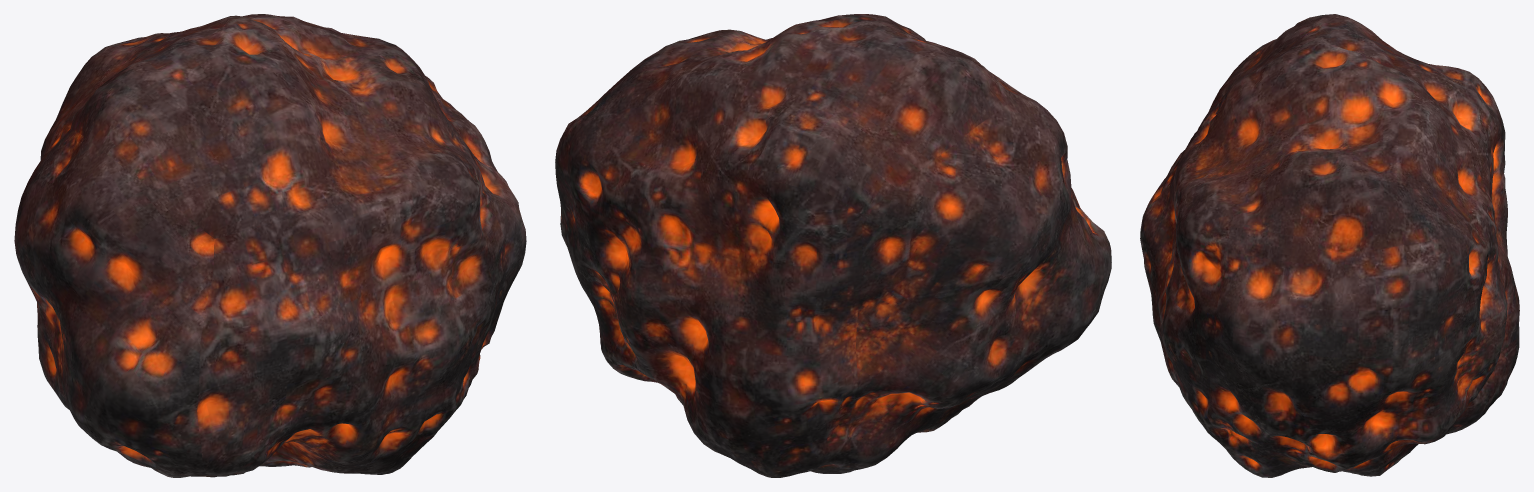
File: meteoro.glb
The picture shows the model from 3 angles, left to right: view 1: azimuth 30°, elevation 25°; view 2: azimuth 150°, elevation 25°; view 3: azimuth 270°, elevation 25°; orthographic projection. The views are drawn at different scales.
Visible parts, largest first — view 1: Object_2; view 2: Object_2; view 3: Object_2.
Boxes of the visible parts, box(x1,y1,x2,y2) form: Object_2: box(14, 14, 526, 477); Object_2: box(555, 14, 1111, 477); Object_2: box(1140, 14, 1519, 477).
Bounding box in the file's own units: 1.83 × 1.64 × 1.45.
Materials: 1 (1 with a texture image).
